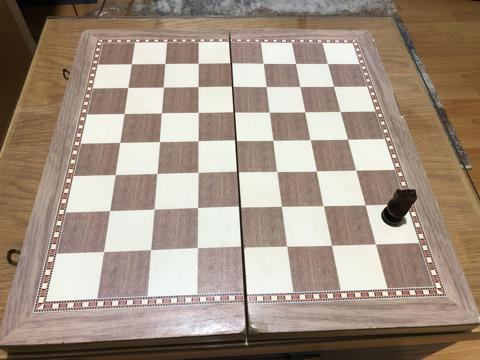xcorner: (228, 106, 241, 118), (192, 107, 205, 119), (119, 108, 132, 120), (192, 135, 204, 148), (191, 243, 203, 256), (322, 57, 334, 69), (290, 57, 302, 69), (258, 57, 270, 69), (226, 58, 238, 70), (193, 58, 205, 70), (160, 58, 172, 70), (127, 58, 139, 70), (328, 80, 340, 92), (295, 80, 307, 92), (261, 80, 273, 92), (227, 81, 239, 93), (193, 81, 205, 93), (158, 82, 170, 94), (123, 82, 135, 94), (335, 105, 347, 117), (300, 105, 312, 117), (264, 106, 276, 118), (156, 107, 168, 119), (342, 133, 354, 145), (305, 133, 317, 145), (268, 134, 280, 146), (230, 135, 242, 147), (154, 136, 166, 148), (115, 137, 127, 149), (350, 164, 362, 176), (311, 165, 323, 177), (272, 166, 284, 178), (232, 166, 244, 178), (192, 167, 204, 179), (151, 168, 163, 180), (110, 169, 122, 181), (359, 199, 371, 211), (318, 200, 330, 212), (276, 201, 288, 213), (234, 202, 246, 214), (191, 203, 203, 215), (148, 204, 160, 216), (105, 205, 117, 217), (369, 238, 381, 250), (326, 239, 338, 251), (281, 241, 293, 253), (236, 242, 248, 254), (145, 245, 157, 257), (99, 246, 111, 258)
